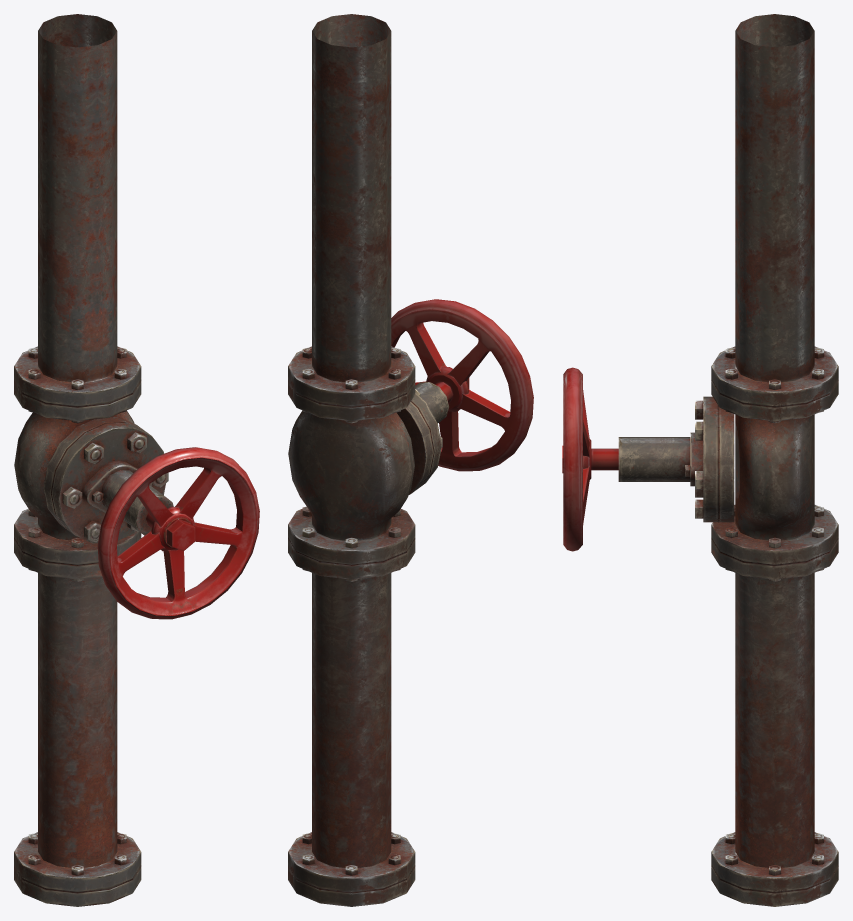
Rendered from Valve.dae.
The picture shows the model from 3 angles, left to right: view 1: azimuth 30°, elevation 25°; view 2: azimuth 150°, elevation 25°; view 3: azimuth 270°, elevation 25°; orthographic projection.
Visible parts, largest first — view 1: Valve; view 2: Valve; view 3: Valve.
Boxes of the visible parts, <box> form: Valve: <box>14,14,259,906</box>; Valve: <box>288,14,533,906</box>; Valve: <box>562,14,838,906</box>.
Bounding box in the file's own units: 61.09 × 91.67 × 311.
